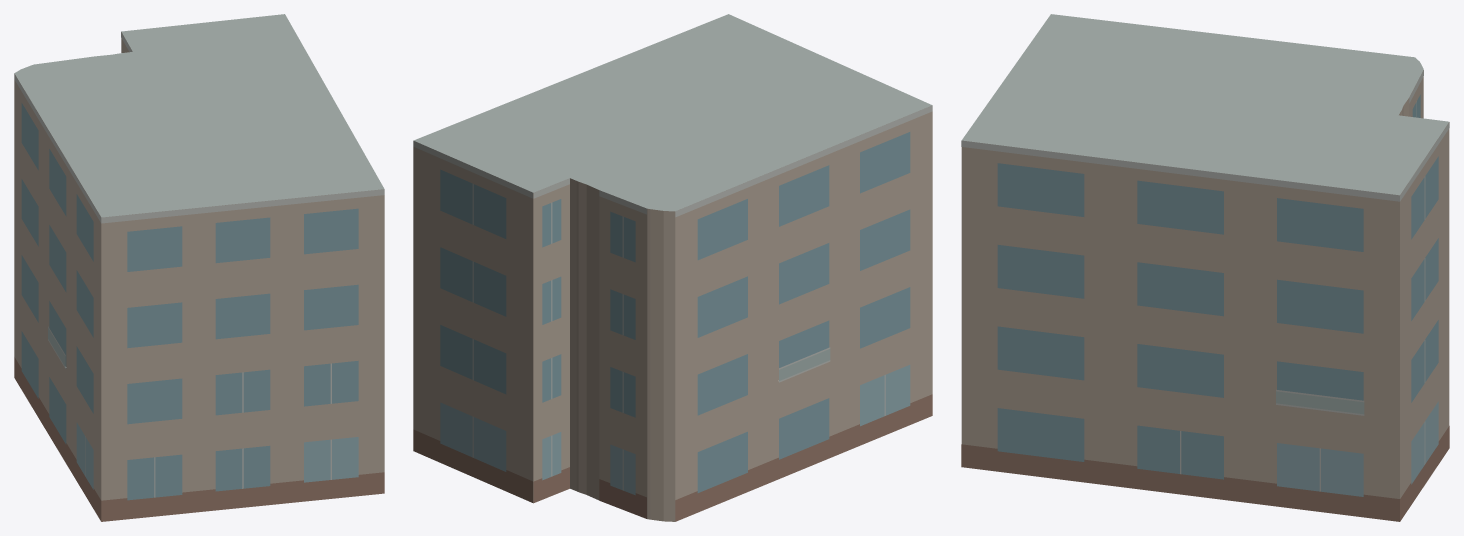
The model's file is survey-upis-32817141.glb.
3 views of the same model, side by side, from view 1: azimuth 30°, elevation 25°; view 2: azimuth 150°, elevation 25°; view 3: azimuth 270°, elevation 25° (orthographic). The views are drawn at different scales.
Visible parts, largest first — view 1: survey-upis-32817141.tmp; view 2: survey-upis-32817141.tmp; view 3: survey-upis-32817141.tmp.
Part boxes in pixels (x1,y1,x2,y2): survey-upis-32817141.tmp: [14, 14, 384, 521]; survey-upis-32817141.tmp: [413, 14, 932, 521]; survey-upis-32817141.tmp: [961, 14, 1449, 521].
Bounding box in the file's own units: 14.83 × 12.45 × 16.87.
